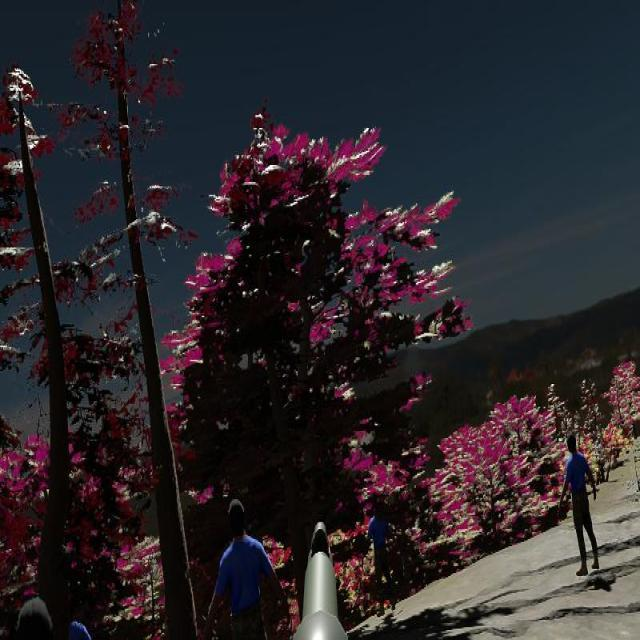Human: (205, 497, 291, 640), (561, 431, 602, 577), (1, 593, 75, 640), (65, 602, 103, 640)
